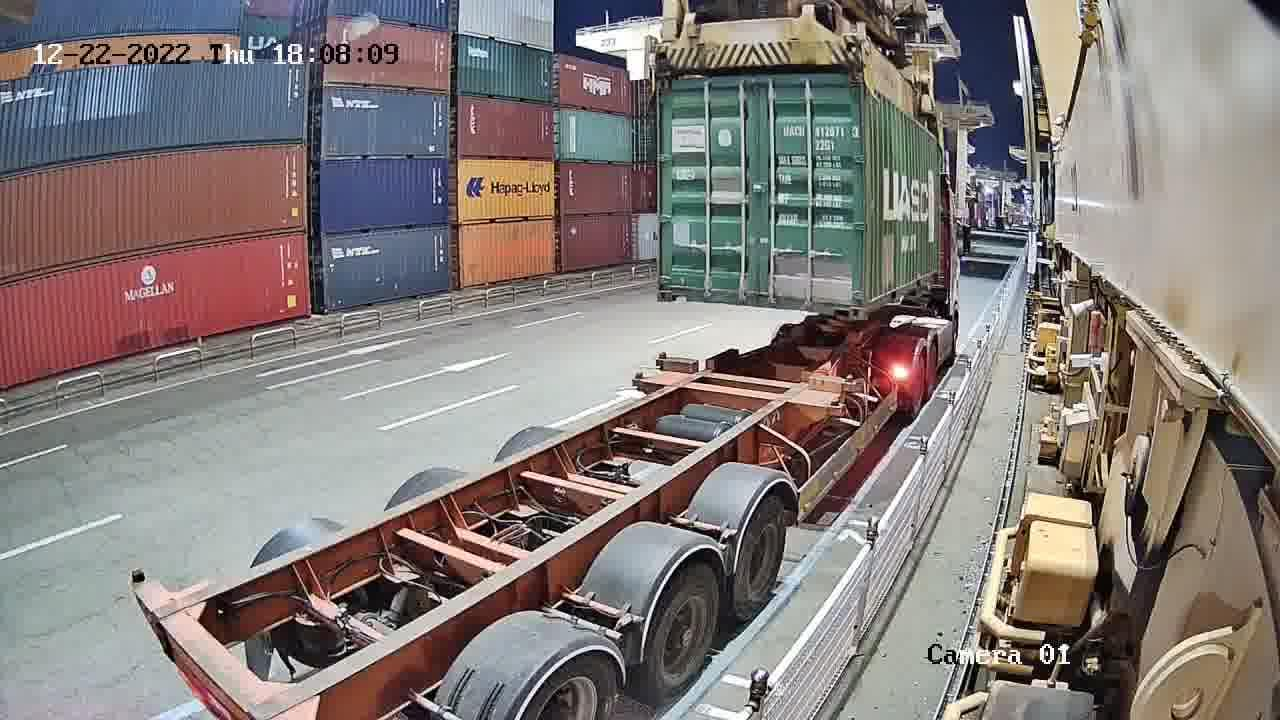Chassis: (657, 360, 857, 394)
Cone: (653, 349, 671, 371), (841, 372, 860, 392)
Hole_L: (657, 272, 688, 303)
Hole_R: (829, 288, 863, 322)
Tire: (911, 357, 926, 415), (927, 345, 936, 394)
